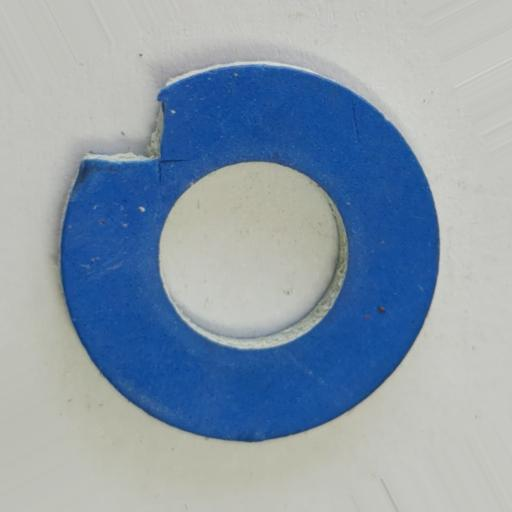defect: (81, 94, 186, 182)
